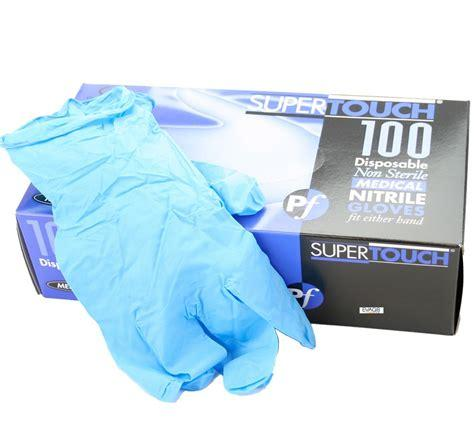gloves: (0, 87, 315, 405)
